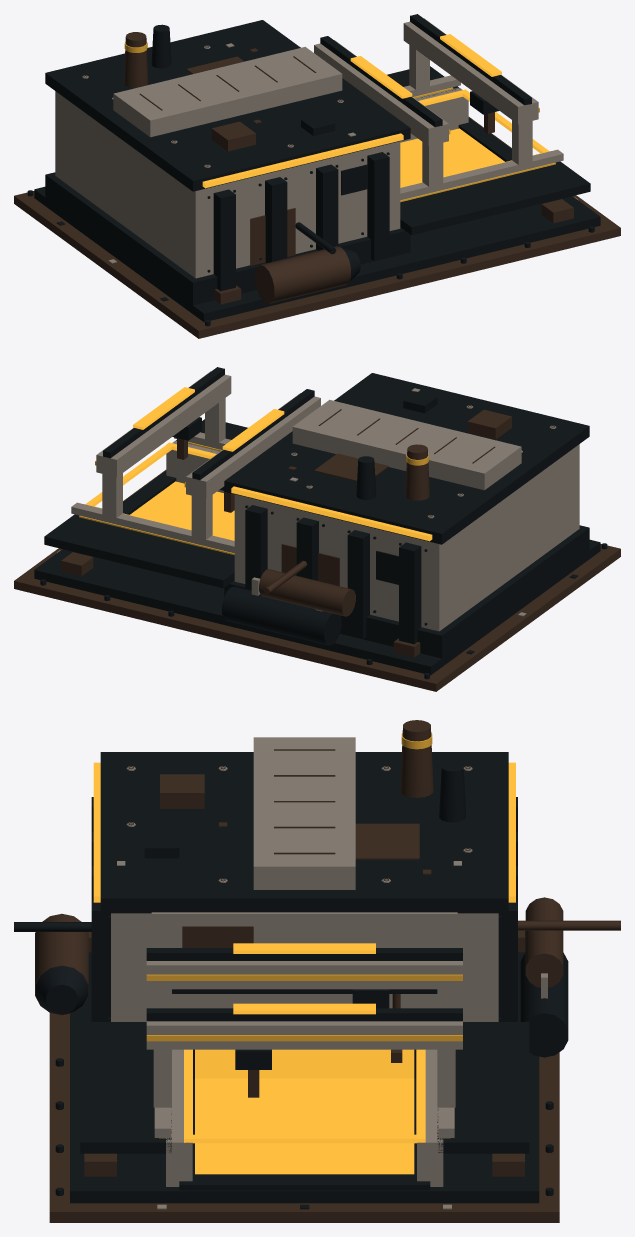
Rendered from foundry-bathyarch.glb.
3 views of the same model, one above another, from view 1: azimuth 30°, elevation 25°; view 2: azimuth 150°, elevation 25°; view 3: azimuth 270°, elevation 25° (orthographic). The views are drawn at different scales.
Parts seen in each view (by area): view 1: hall_body, hall_roof, hall_roof_ridge, foundation_step, foundation_slab, hall_plinth, apron_s, tank_s1, crane_fwd_bridge, forge_floor, crane_aft_bridge, rib_s0 (+22 smaller); view 2: hall_body, hall_roof, foundation_step, foundation_slab, hall_roof_ridge, apron_p, hall_plinth, tank_p1, crane_fwd_bridge, crane_aft_bridge, forge_floor, tank_p2 (+24 smaller); view 3: hall_roof, forge_floor, foundation_step, foundation_slab, hall_roof_ridge, hall_body, apron_p, apron_s, hall_gable, crane_fwd_bridge, crane_aft_bridge, forge_backwall (+34 smaller).
Boxes of the visible parts, left/top/right/bottom form: hall_body: left=55, top=91, right=400, bottom=278; hall_roof: left=45, top=20, right=410, bottom=191; hall_roof_ridge: left=113, top=46, right=342, bottom=137; foundation_step: left=14, top=117, right=620, bottom=338; foundation_slab: left=34, top=186, right=600, bottom=322; hall_plinth: left=45, top=172, right=410, bottom=305; apron_s: left=400, top=161, right=590, bottom=235; tank_s1: left=255, top=246, right=350, bottom=303; crane_fwd_bridge: left=403, top=18, right=538, bottom=124; forge_floor: left=400, top=128, right=504, bottom=187; crane_aft_bridge: left=314, top=40, right=448, bottom=145; rib_s0: left=367, top=152, right=389, bottom=261; hall_body: left=234, top=444, right=579, bottom=631; hall_roof: left=224, top=373, right=589, bottom=544; foundation_step: left=14, top=470, right=620, bottom=691; foundation_slab: left=34, top=539, right=600, bottom=675; hall_roof_ridge: left=292, top=399, right=521, bottom=490; apron_p: left=44, top=514, right=234, bottom=588; hall_plinth: left=224, top=525, right=589, bottom=658; tank_p1: left=222, top=586, right=341, bottom=645; crane_fwd_bridge: left=96, top=371, right=231, bottom=477; crane_aft_bridge: left=186, top=393, right=320, bottom=498; forge_floor: left=130, top=481, right=234, bottom=540; tank_p2: left=259, top=569, right=355, bottom=616; hall_roof: left=100, top=752, right=508, bottom=913; forge_floor: left=195, top=1078, right=414, bottom=1174; foundation_step: left=49, top=1013, right=559, bottom=1222; foundation_slab: left=70, top=930, right=539, bottom=1203; hall_roof_ridge: left=253, top=737, right=355, bottom=889; hall_body: left=111, top=913, right=498, bottom=1021; apron_p: left=437, top=1022, right=529, bottom=1153; apron_s: left=80, top=1022, right=171, bottom=1153; hall_gable: left=151, top=912, right=457, bottom=947; crane_fwd_bridge: left=146, top=1021, right=462, bottom=1049; crane_aft_bridge: left=146, top=961, right=462, bottom=989; forge_backwall: left=195, top=1049, right=414, bottom=1078.
Size of the model in its own units: 320 by 136 by 288.
